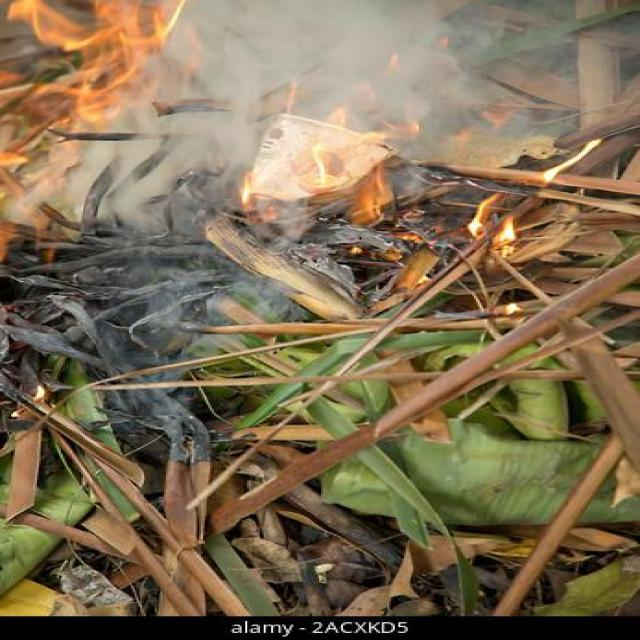fire: (0, 1, 188, 168), (238, 107, 394, 229), (469, 186, 517, 246)
